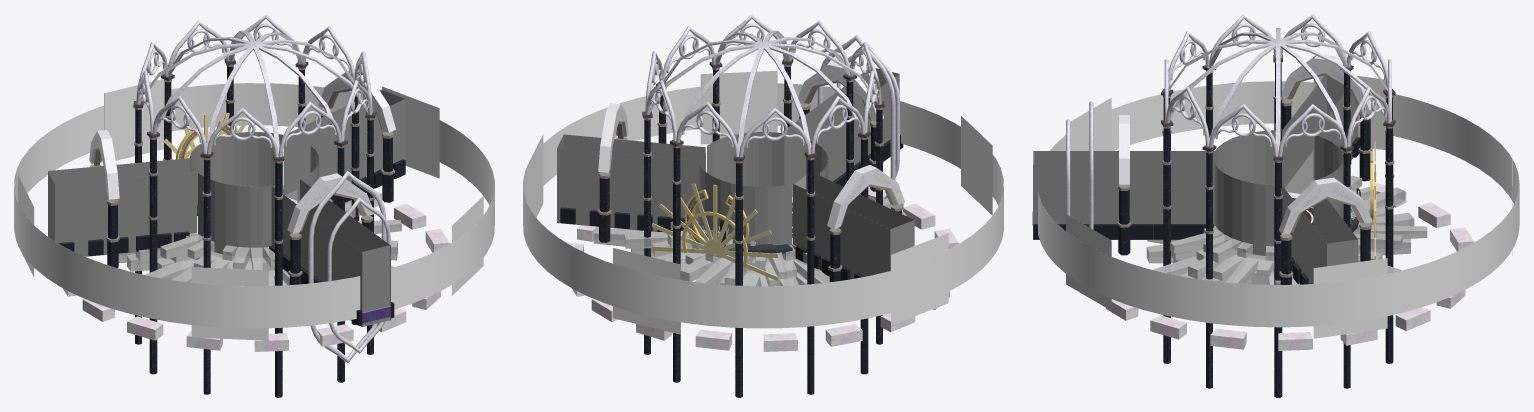
Rendered from stage07.FBX.
3 renders of one model, left to right at view 1: azimuth 30°, elevation 25°; view 2: azimuth 150°, elevation 25°; view 3: azimuth 270°, elevation 25°, orthographic.
Parts seen in each view (by area): view 1: effect, doom, gate, wall, bridge005, Object140, bridge004, bridge006, cris003, cris01, cris002, bridge02 (+13 smaller); view 2: effect, doom, wall, gate, Object140, Tube002, cris002, cris003, bridge004, bridge006, bridge005, bridge03 (+10 smaller); view 3: effect, doom, wall, gate, Object140, cris003, cris002, bridge004, bridge005, cris01, bridge006, bridge01 (+12 smaller).
Boxes of the visible parts, box(x1,y1,x2,y2) form: effect: box(14, 79, 494, 340); doom: box(133, 14, 375, 397); gate: box(89, 69, 395, 363); wall: box(48, 89, 404, 326); bridge005: box(55, 171, 196, 256); Object140: box(62, 191, 449, 351); bridge004: box(271, 186, 362, 326); bridge006: box(308, 99, 405, 188); cris003: box(118, 200, 397, 285); cris01: box(160, 199, 332, 270); cris002: box(135, 185, 401, 285); bridge02: box(59, 231, 189, 256); effect: box(523, 70, 1003, 334); doom: box(642, 14, 884, 397); wall: box(557, 68, 914, 279); gate: box(597, 34, 904, 282); Object140: box(568, 186, 958, 351); Tube002: box(651, 183, 778, 280); cris002: box(624, 212, 907, 286); cris003: box(593, 198, 903, 286); bridge004: box(810, 74, 899, 181); bridge006: box(564, 134, 705, 171); bridge005: box(817, 174, 913, 229); bridge03: box(560, 207, 685, 231); effect: box(1038, 75, 1519, 338); doom: box(1161, 14, 1395, 397); wall: box(1033, 76, 1358, 266); gate: box(1066, 55, 1372, 284); Object140: box(1106, 183, 1474, 350); cris003: box(1146, 187, 1414, 284); cris002: box(1171, 175, 1427, 284); bridge004: box(1033, 151, 1215, 164); bridge005: box(1282, 75, 1326, 187); cris01: box(1170, 187, 1373, 262); bridge006: box(1282, 185, 1326, 283); bridge01: box(1033, 224, 1213, 239).
Bounding box in the file's own units: 3312 × 2312 × 3343.
